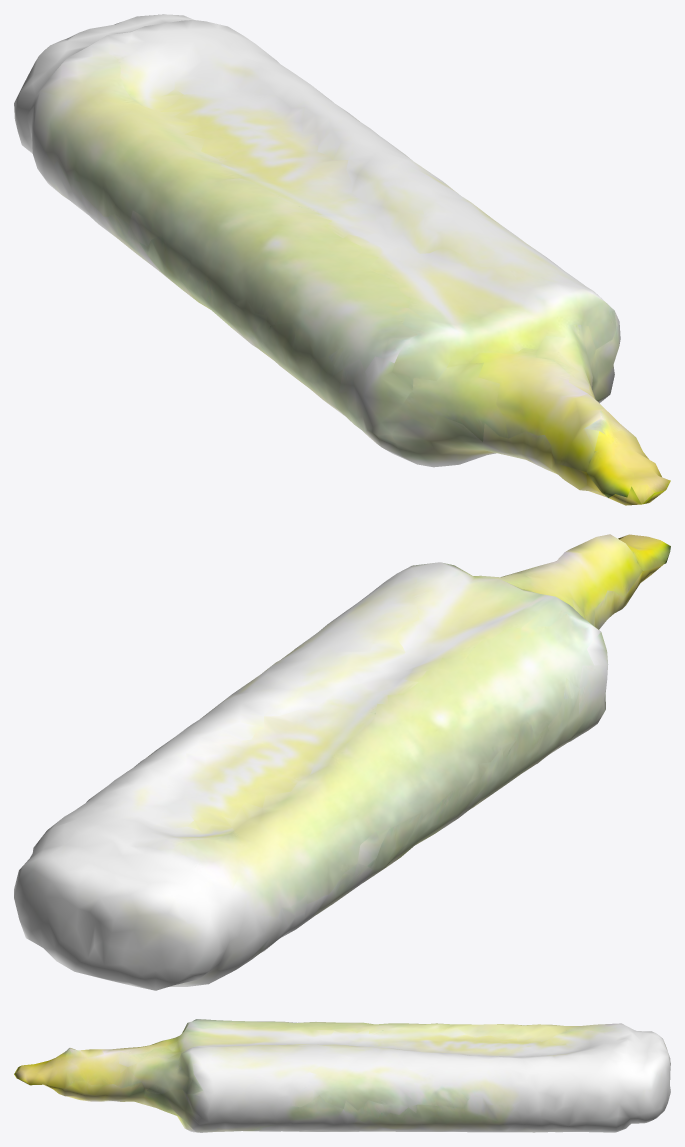
File: scan_align.obj
The picture shows the model from 3 angles, top to bottom: view 1: azimuth 30°, elevation 25°; view 2: azimuth 150°, elevation 25°; view 3: azimuth 270°, elevation 25°; orthographic projection. The views are drawn at different scales.
Size of the model in its own units: 0.026 by 0.0141 by 0.1016.
1 material, 1 textured.
